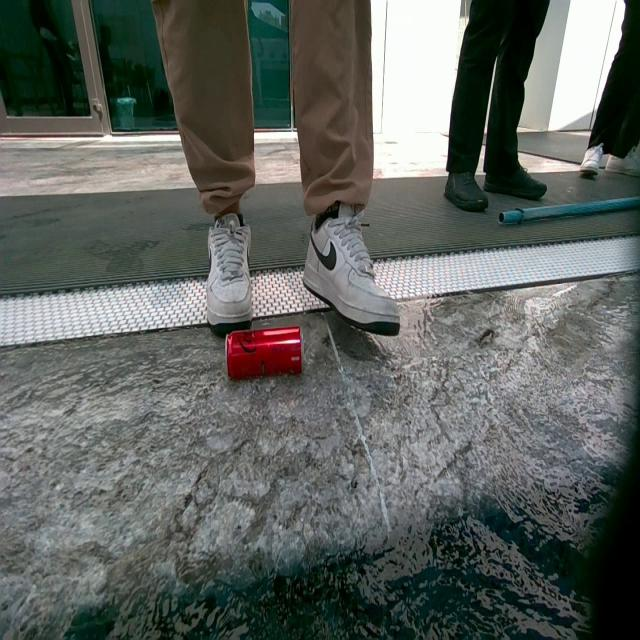Cans: (229, 329, 307, 382)
